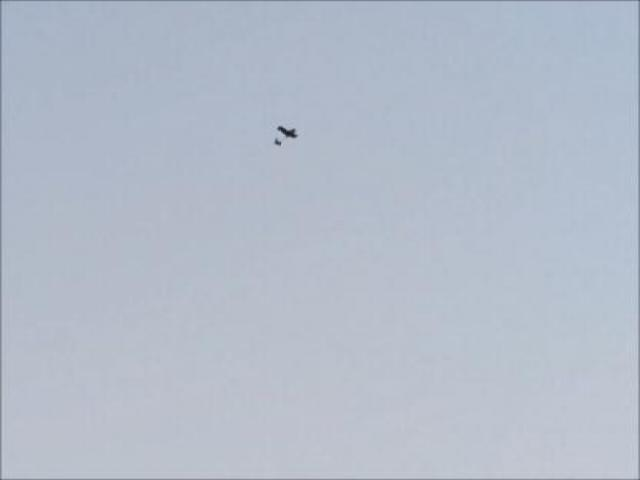uav: (265, 116, 306, 154)
